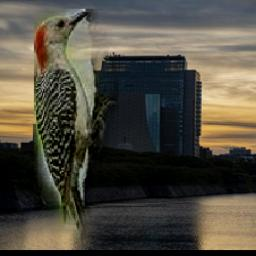Woodpecker: (35, 9, 120, 245)
